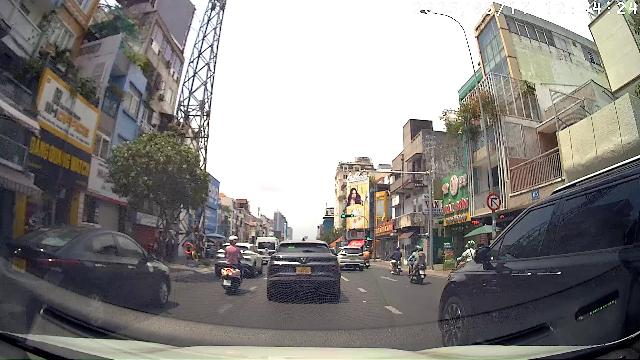123b-cam-re-phai: (486, 193, 502, 211)
